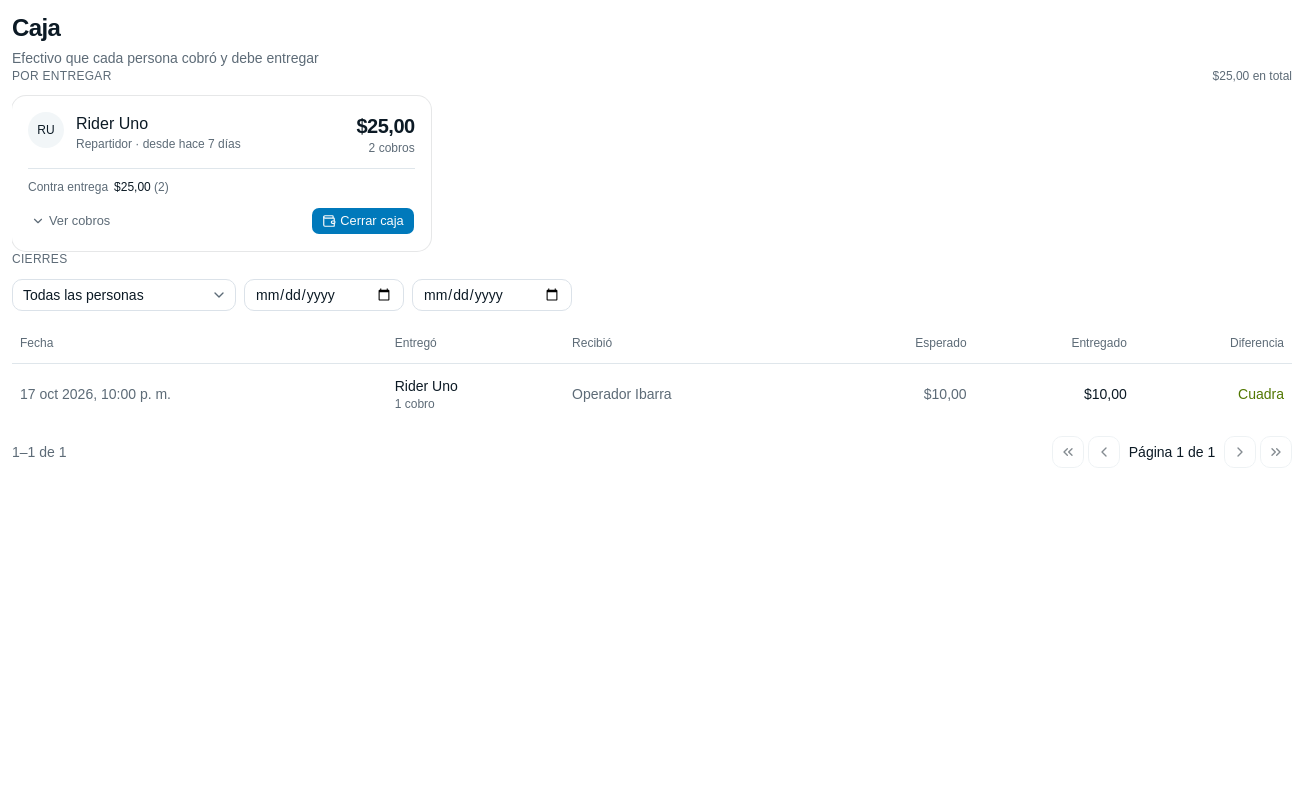
CajaPage — pendientes › muestra lo que cada persona debe entregar y, al abrir la tarjeta, sus cobros con número de guía
Expected: the text "$25,00" is shown, x1=356 y1=112 x2=415 y2=140
Expected: the text "2 cobros" is shown, x1=369 y1=141 x2=415 y2=155
What coordinates should you click on to do the following:
click the button "Ver cobros"
I would click on:
 (71, 221)
Its box is x1=20 y1=207 x2=121 y2=235.
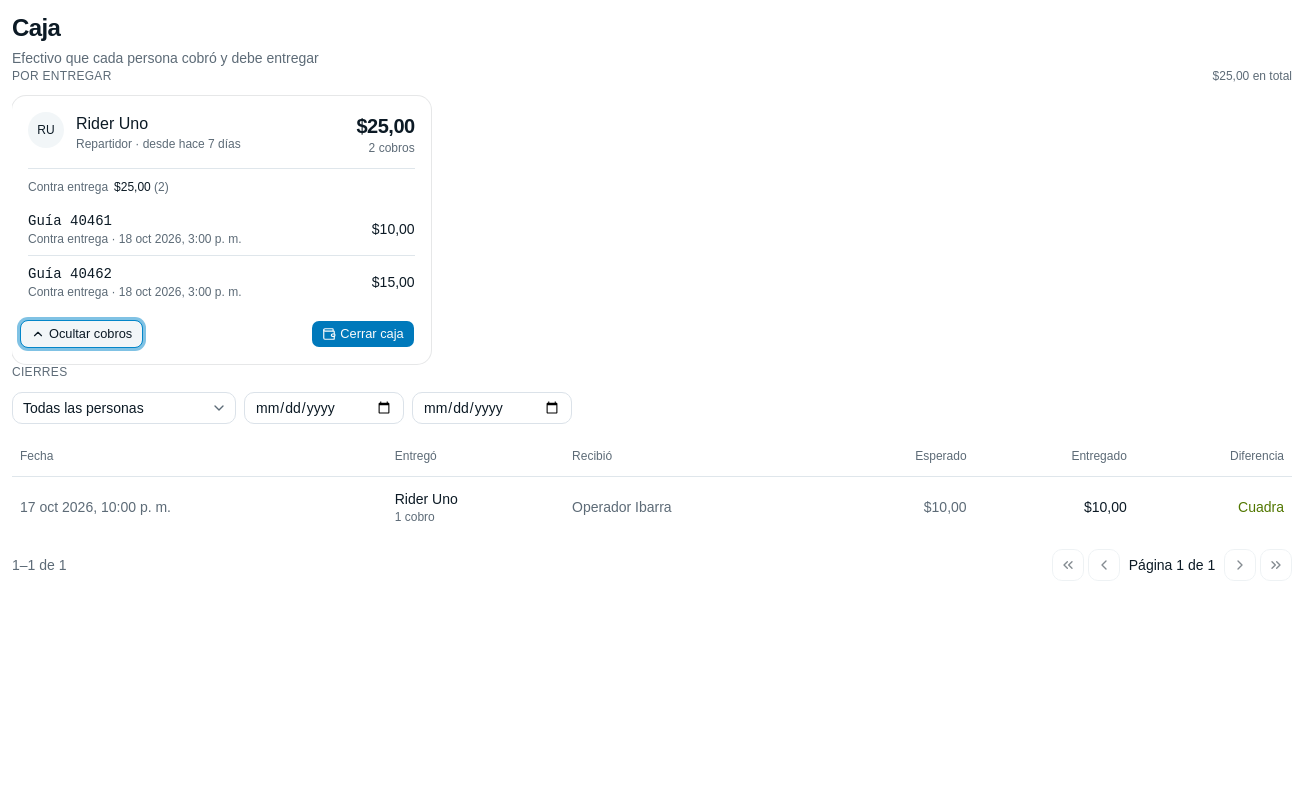
Expected: the text "Guía 40461" is shown, x1=28 y1=213 x2=112 y2=229
Expected: the text "Guía 40462" is shown, x1=28 y1=266 x2=112 y2=282
